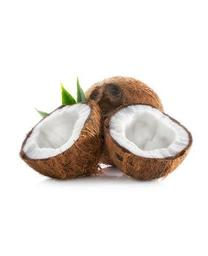coconut: (20, 100, 105, 181), (104, 102, 192, 180), (81, 76, 163, 142)
